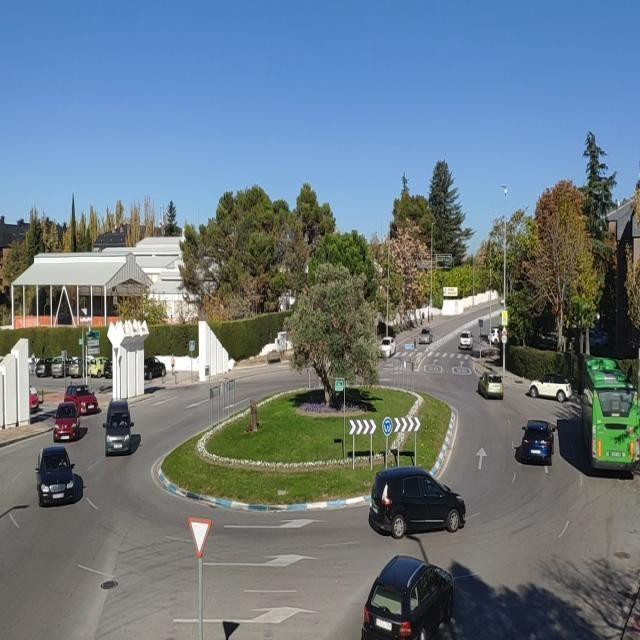Bus: (580, 354, 640, 474)
Car: (359, 554, 455, 638), (369, 465, 466, 539), (36, 447, 78, 506), (102, 400, 136, 455), (517, 421, 557, 464), (528, 372, 572, 401), (52, 402, 82, 441), (63, 384, 99, 414), (477, 371, 504, 399), (50, 356, 76, 378), (143, 357, 166, 380), (88, 356, 110, 378), (68, 357, 90, 378), (35, 358, 57, 378), (379, 336, 396, 358), (590, 329, 610, 347), (29, 387, 41, 412), (458, 331, 473, 350), (488, 326, 502, 346), (418, 329, 432, 344)
